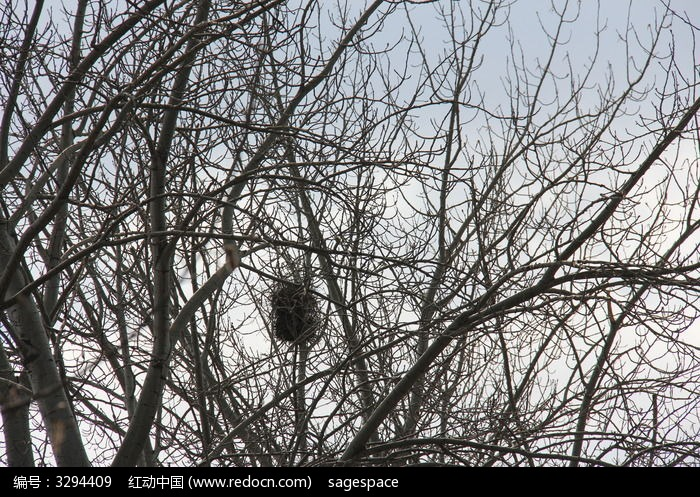bird-nest: (266, 278, 321, 347)
